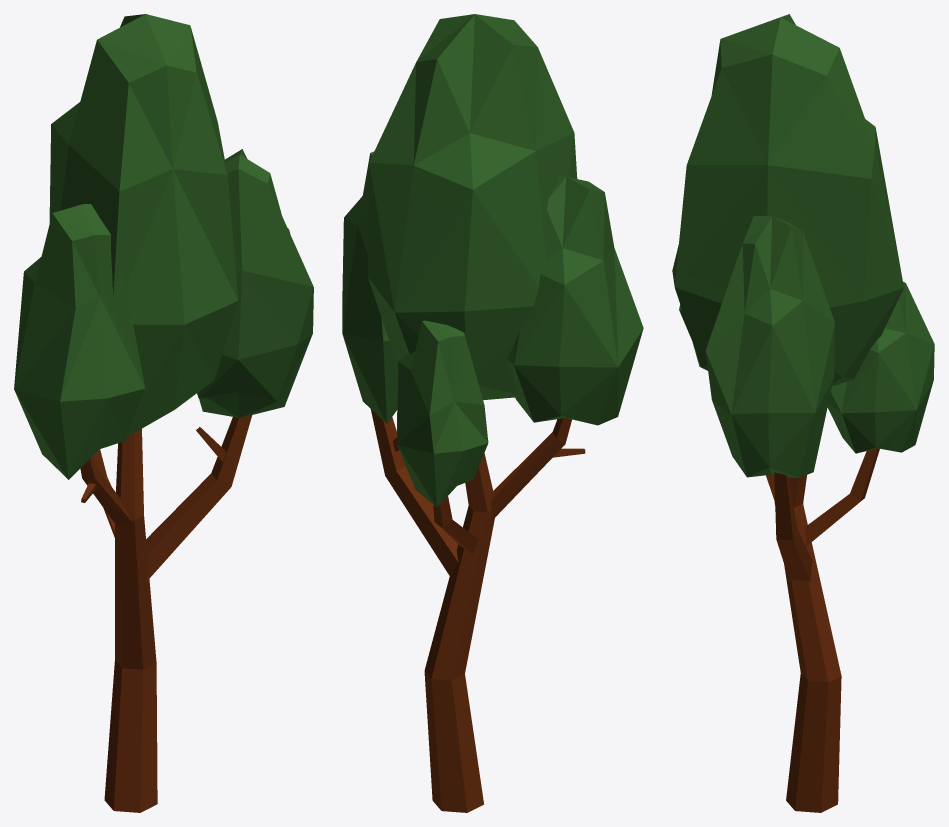
File: Tree5_high.glb
The picture shows the model from 3 angles, left to right: view 1: azimuth 30°, elevation 25°; view 2: azimuth 150°, elevation 25°; view 3: azimuth 270°, elevation 25°; orthographic projection. The views are drawn at different scales.
Visible parts, largest first — view 1: Tree_temp_climate_005, Tree_temp_climate_005.001; view 2: Tree_temp_climate_005, Tree_temp_climate_005.001; view 3: Tree_temp_climate_005, Tree_temp_climate_005.001.
Boxes of the visible parts, <box> form: Tree_temp_climate_005: <box>14,14,313,479</box>; Tree_temp_climate_005.001: <box>80,415,252,812</box>; Tree_temp_climate_005: <box>342,14,643,507</box>; Tree_temp_climate_005.001: <box>371,409,585,812</box>; Tree_temp_climate_005: <box>672,14,934,478</box>; Tree_temp_climate_005.001: <box>766,448,879,812</box>.
Size of the model in its own units: 2.44 by 6.61 by 2.
